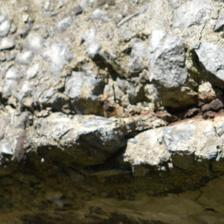Crack: (2, 19, 220, 149)
